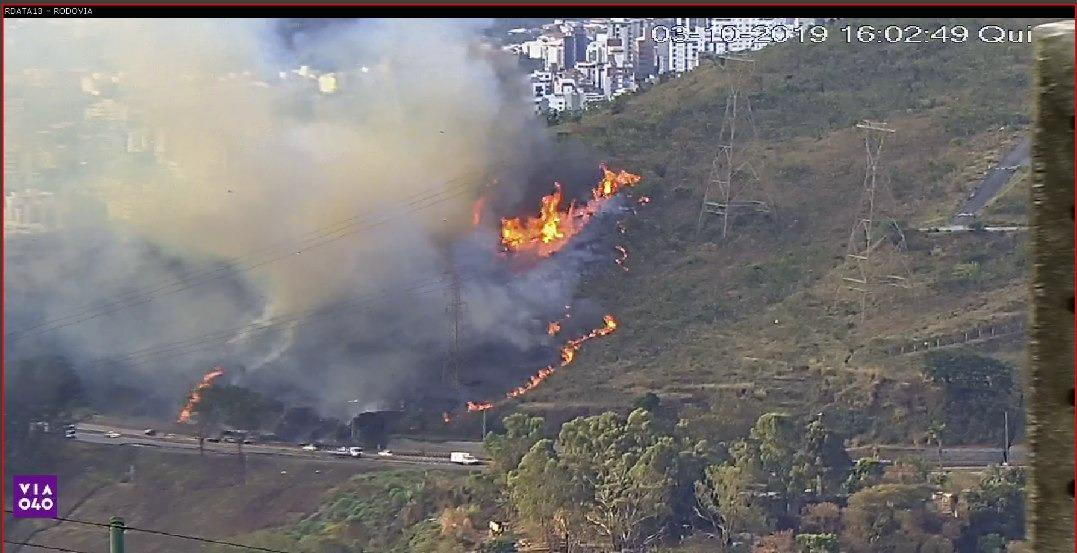Fire: (497, 164, 635, 250), (558, 315, 618, 369), (178, 367, 221, 422), (509, 365, 551, 396), (466, 399, 493, 411), (544, 320, 561, 336)
